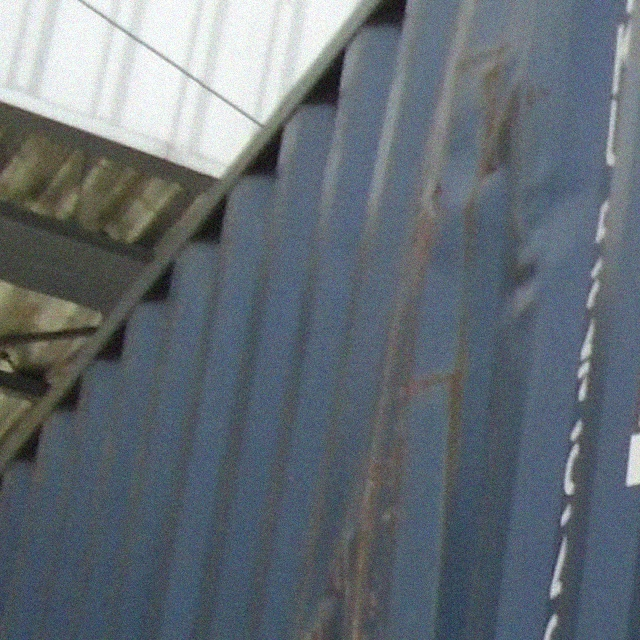Dent: (411, 38, 592, 345)
Rusty: (320, 372, 466, 637)
